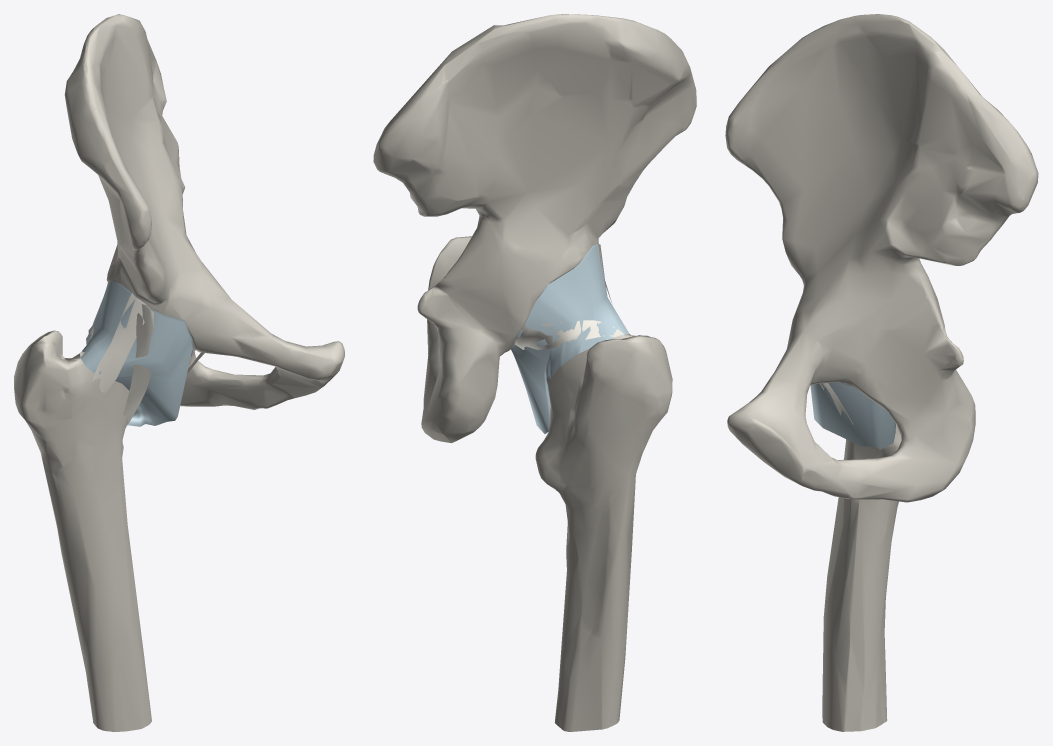
The model's file is hip-v1.glb.
3 renders of one model, left to right at view 1: azimuth 30°, elevation 25°; view 2: azimuth 150°, elevation 25°; view 3: azimuth 270°, elevation 25°, orthographic. The views are drawn at different scales.
Parts seen in each view (by area): view 1: Hip bone.r, Femur.r, Articular capsule of hip joint.r, Transverse part of iliofemoral ligament.r, Descending part of iliofemoral ligament.r; view 2: Hip bone.r, Femur.r, Articular capsule of hip joint.r, Ischiofemoral ligament.r; view 3: Hip bone.r, Femur.r, Articular capsule of hip joint.r.
Boxes of the visible parts, left/top/right/bottom form: Hip bone.r: left=64, top=14, right=344, bottom=409; Femur.r: left=14, top=330, right=151, bottom=731; Articular capsule of hip joint.r: left=81, top=281, right=193, bottom=426; Transverse part of iliofemoral ligament.r: left=92, top=293, right=146, bottom=393; Descending part of iliofemoral ligament.r: left=123, top=304, right=153, bottom=424; Hip bone.r: left=373, top=14, right=696, bottom=443; Femur.r: left=535, top=334, right=672, bottom=731; Articular capsule of hip joint.r: left=511, top=243, right=629, bottom=433; Ischiofemoral ligament.r: left=515, top=320, right=623, bottom=350; Hip bone.r: left=725, top=14, right=1038, bottom=502; Femur.r: left=822, top=382, right=901, bottom=731; Articular capsule of hip joint.r: left=810, top=382, right=895, bottom=449.
Size of the model in its own units: 0.1456 by 0.3519 by 0.1429.
